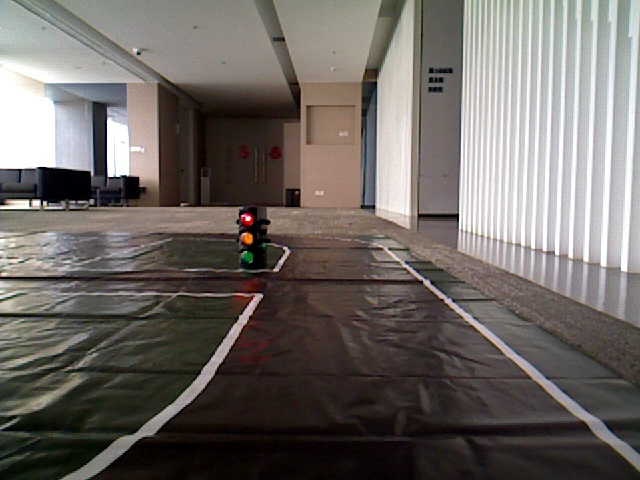red: (237, 208, 259, 264)
